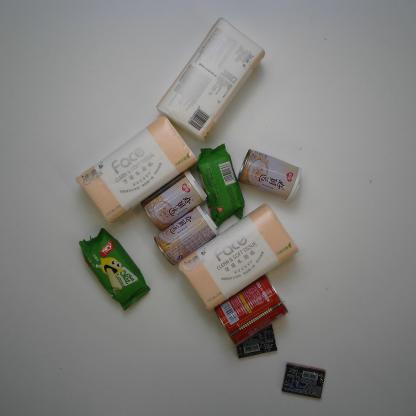Canned Food: (216, 274, 286, 344), (154, 204, 218, 269), (237, 148, 309, 202), (141, 172, 208, 228)
Dessert: (78, 229, 151, 310), (193, 141, 247, 218)
Gum: (276, 363, 340, 404), (230, 324, 281, 356)
Tissue: (156, 16, 265, 142), (176, 207, 298, 308), (76, 116, 194, 216)
